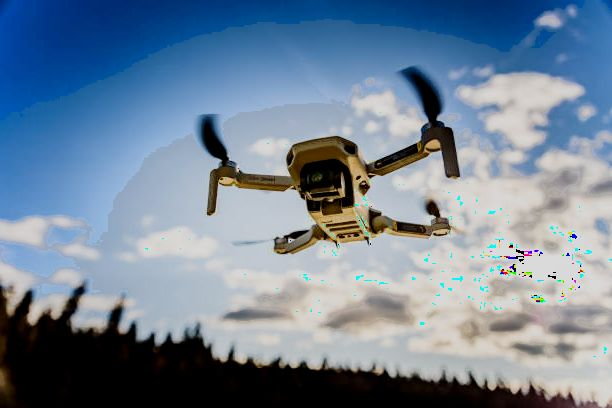Drone: (189, 65, 463, 264)
